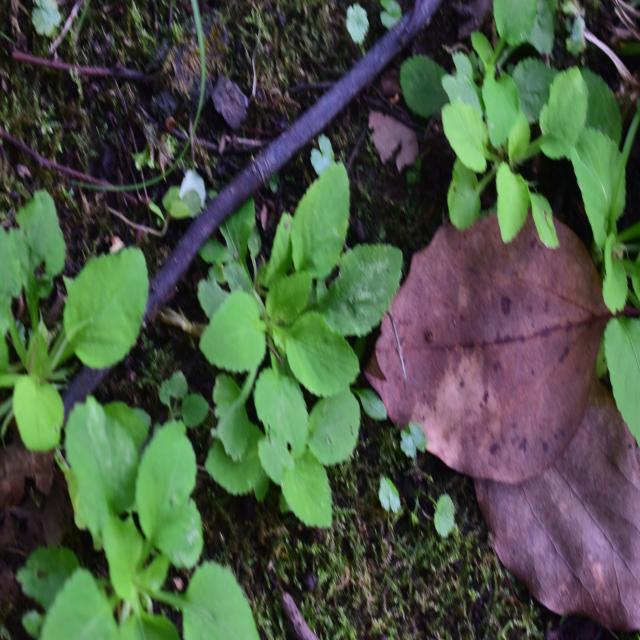Viola: (170, 147, 409, 500), (0, 201, 146, 446)
